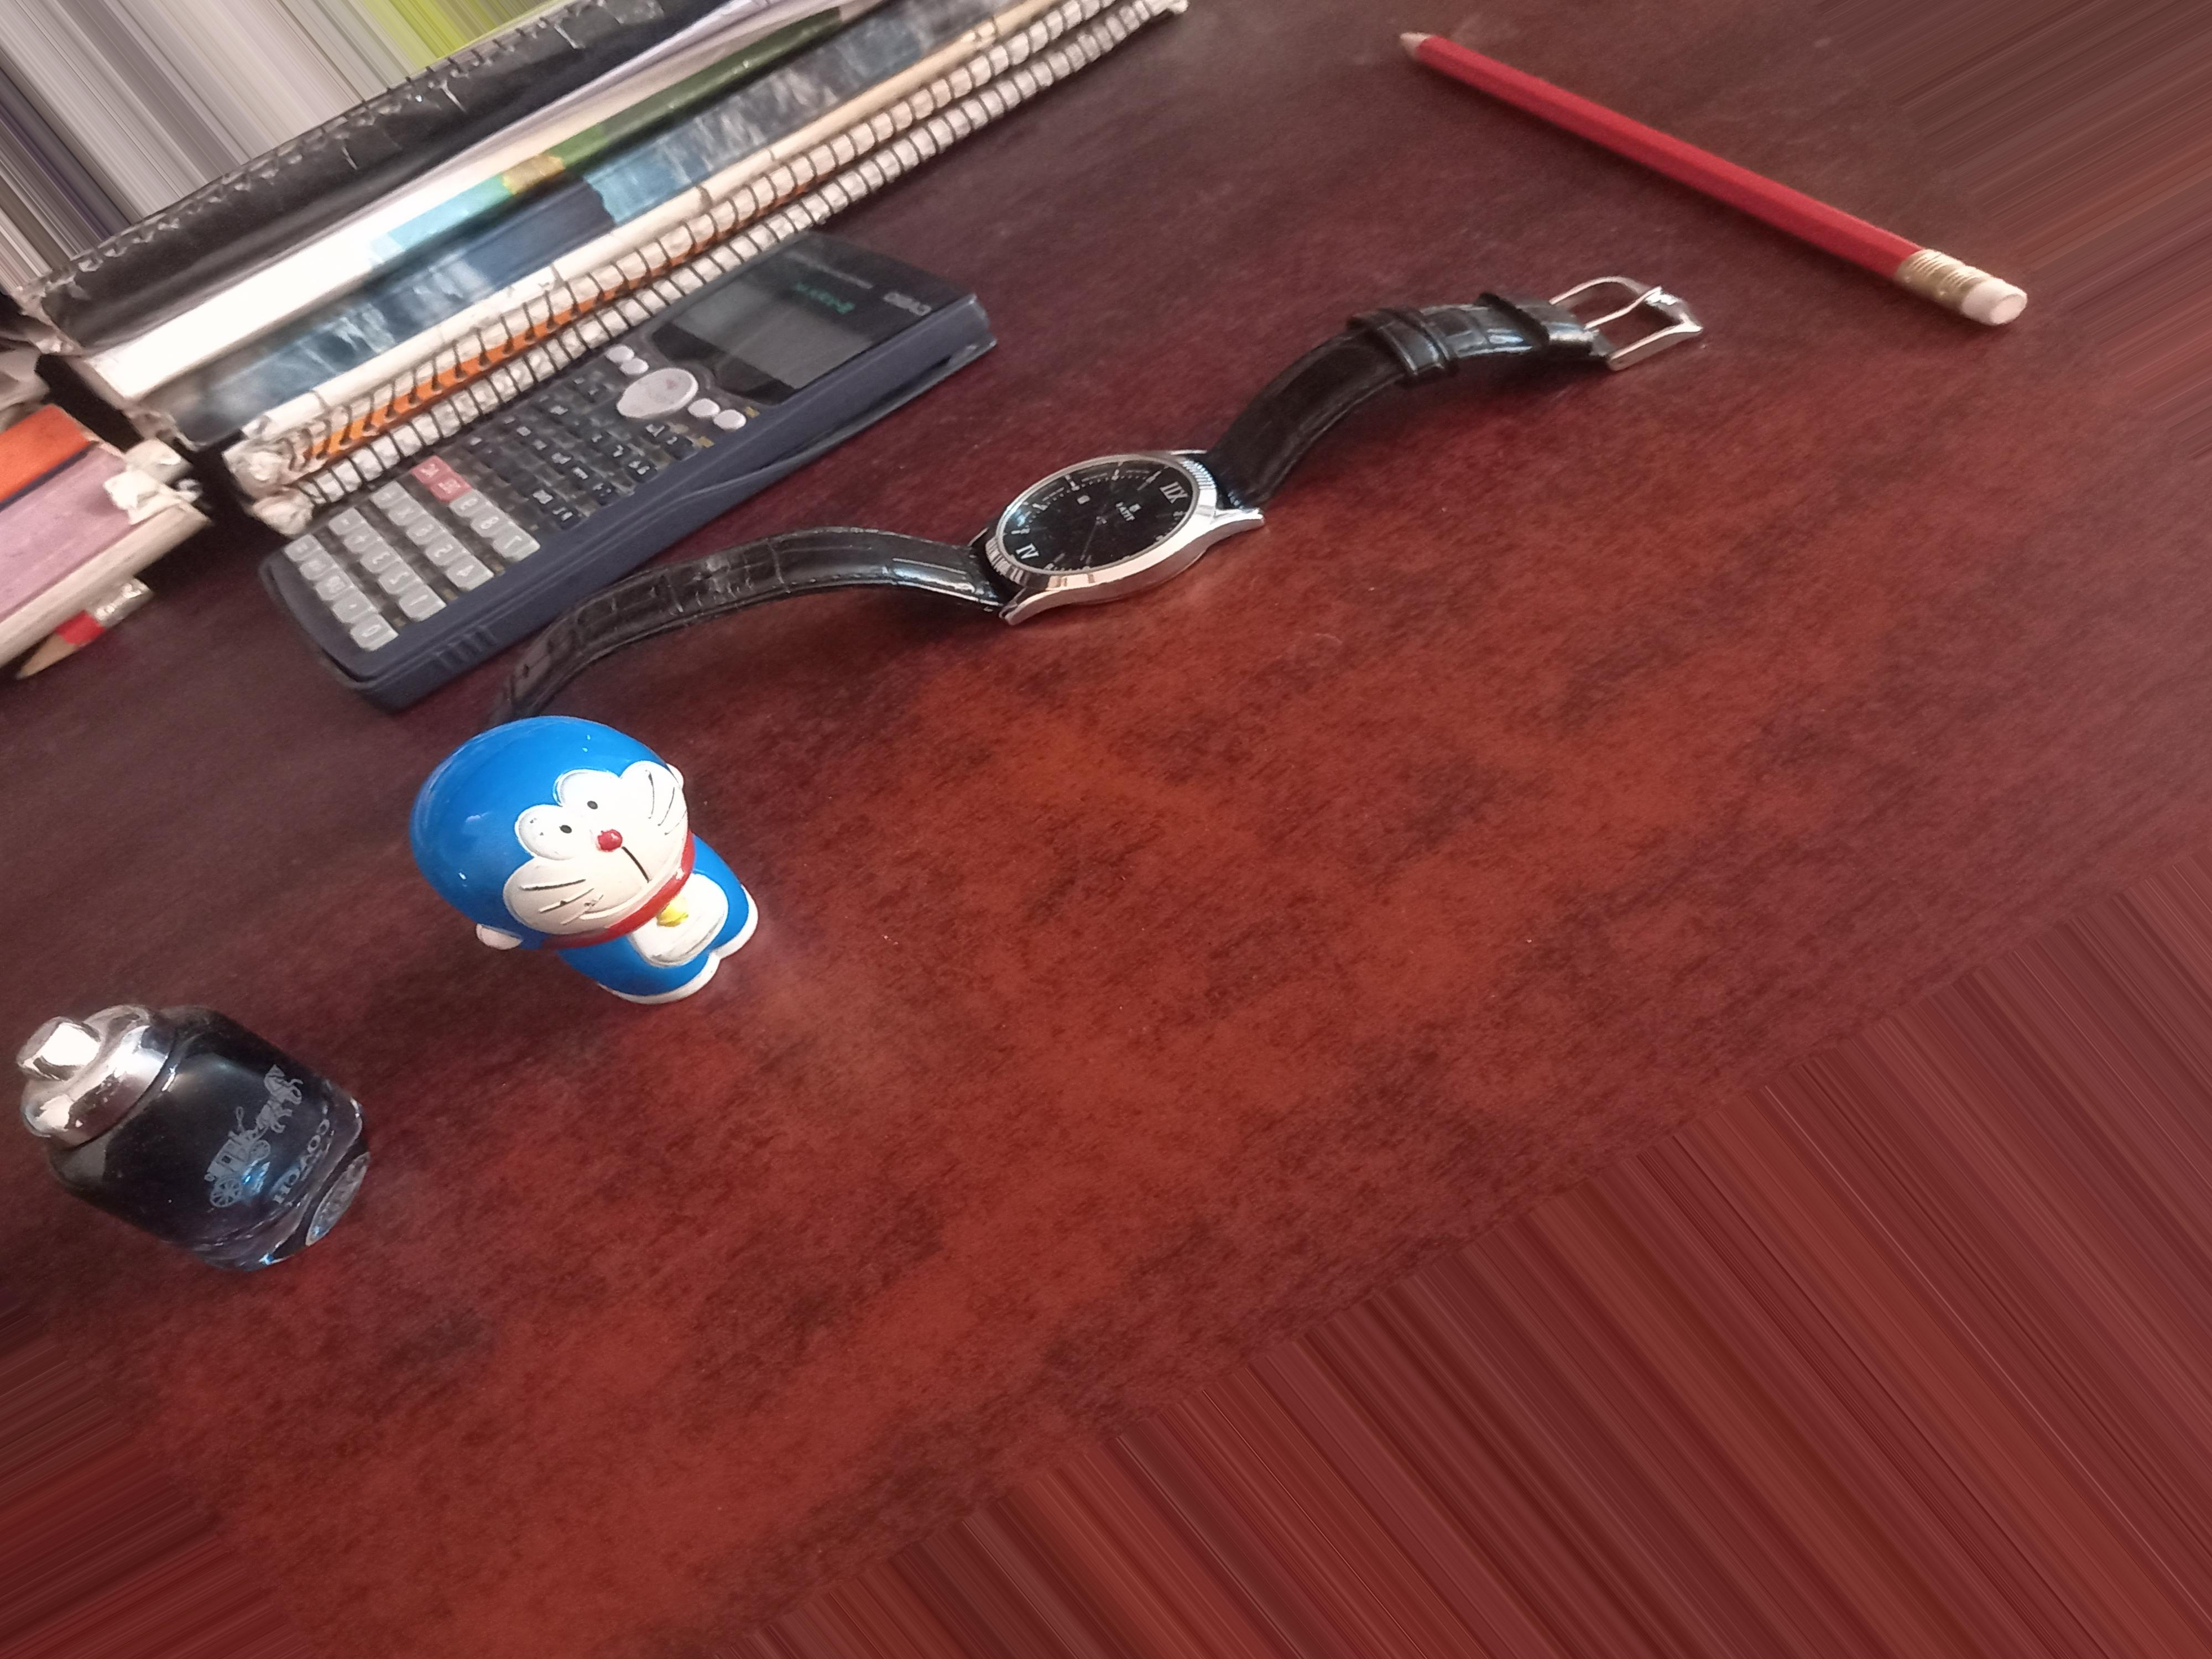calculator: (374, 411, 662, 582)
doraemon: (413, 791, 768, 997)
pencil: (1712, 71, 2102, 362)
perfume: (7, 1044, 374, 1243)
watch: (890, 455, 1372, 655)
